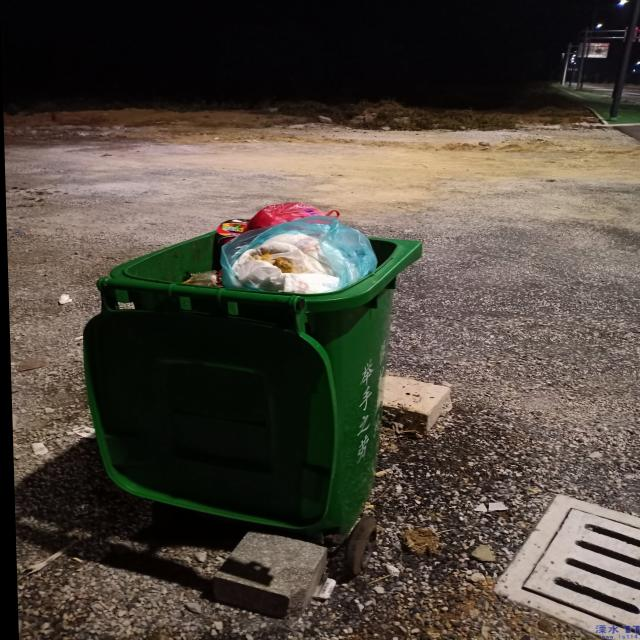overflow: (78, 202, 429, 540)
